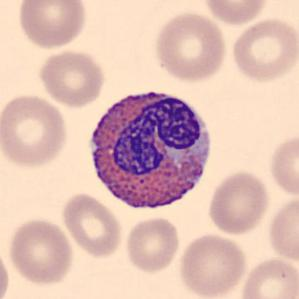Eosinophil: (82, 80, 219, 217)
RBC: (152, 10, 229, 83), (0, 91, 70, 171), (5, 216, 74, 287), (176, 231, 248, 298), (229, 16, 298, 84), (60, 190, 125, 260), (206, 169, 272, 236), (37, 48, 107, 108), (15, 0, 89, 50), (123, 215, 182, 274), (237, 255, 298, 299), (266, 194, 298, 265), (266, 131, 298, 199), (201, 0, 269, 26), (0, 244, 12, 299)
